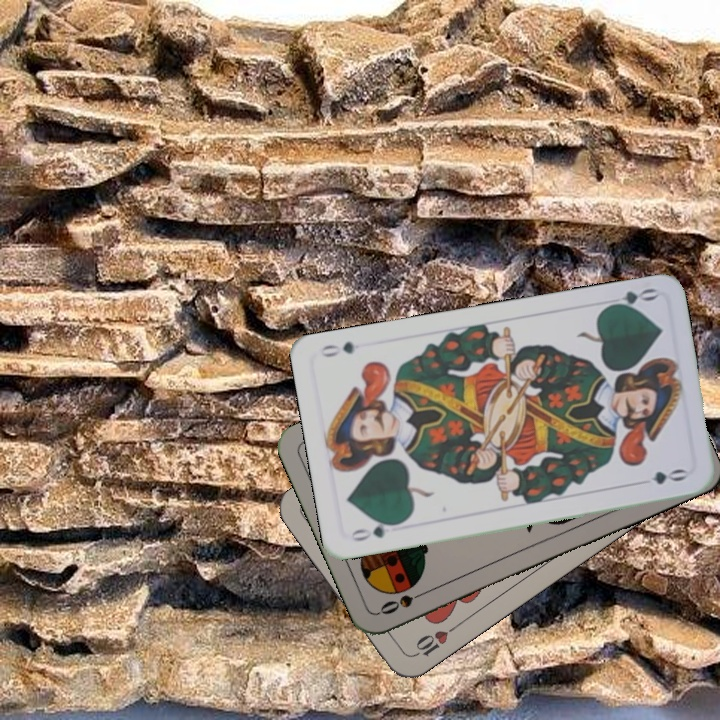GO: (601, 284, 659, 312), (346, 517, 404, 544)
H10: (407, 621, 459, 660)
SO: (375, 586, 432, 617)
